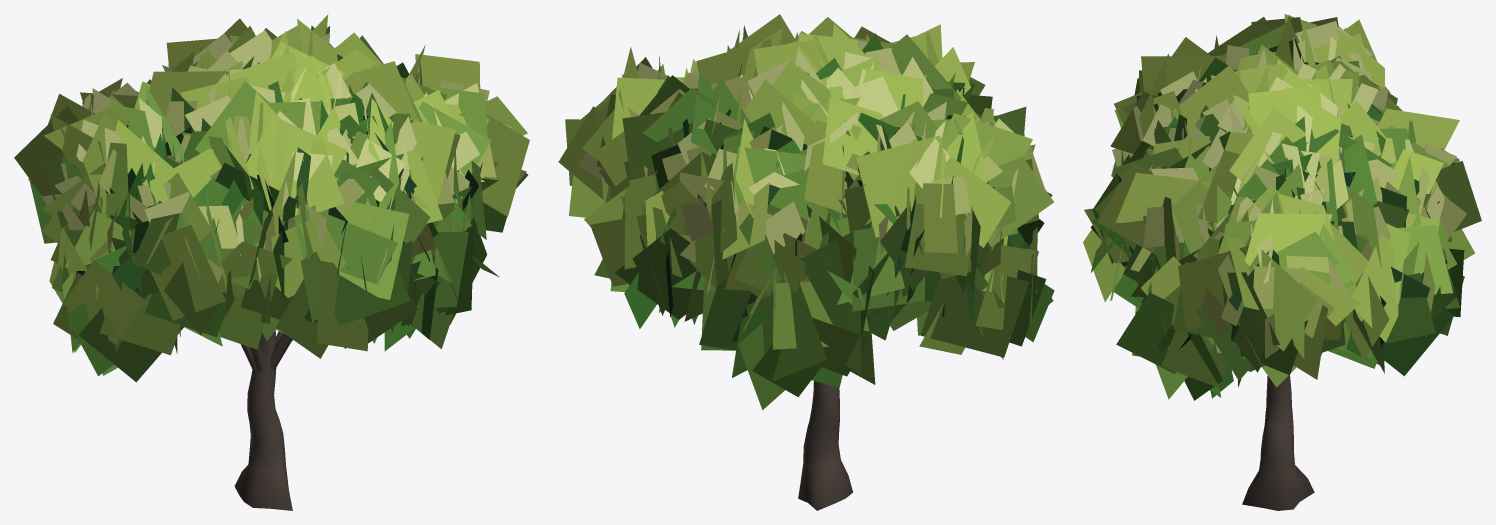
File: Camphor.fbx
3 views of the same model, side by side, from view 1: azimuth 30°, elevation 25°; view 2: azimuth 150°, elevation 25°; view 3: azimuth 270°, elevation 25° (orthographic). The views are drawn at different scales.
Parts seen in each view (by area): view 1: Camphor; view 2: Camphor; view 3: Camphor.
Part boxes in pixels (left/top/right/bottom): Camphor: left=14, top=14, right=529, bottom=510; Camphor: left=558, top=14, right=1054, bottom=510; Camphor: left=1083, top=14, right=1481, bottom=510.
Size of the model in its own units: 12.56 by 11.72 by 9.44.
